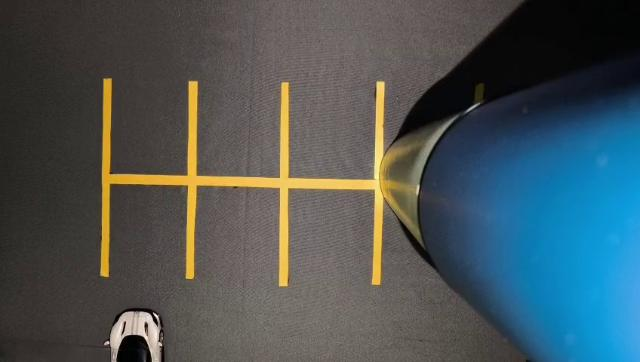toy_car: (95, 266, 186, 362)
